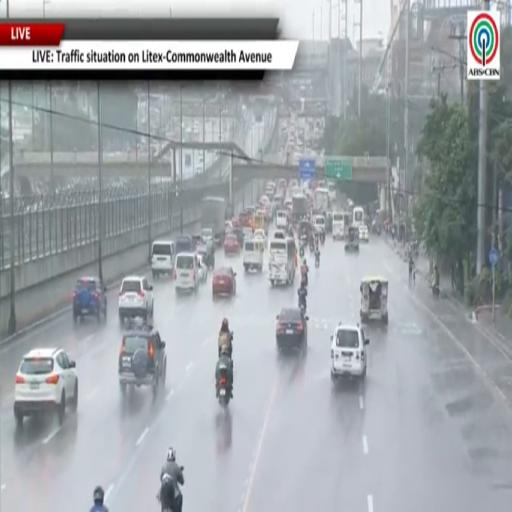bus: (269, 237, 296, 285), (353, 206, 364, 228)
car: (14, 348, 78, 426), (119, 325, 166, 395), (331, 324, 369, 380), (119, 276, 154, 324), (73, 277, 106, 322), (276, 308, 308, 350), (174, 253, 200, 293), (151, 240, 175, 278), (212, 267, 236, 297), (197, 246, 214, 268), (227, 228, 245, 246), (197, 253, 208, 282), (224, 234, 239, 254), (253, 230, 267, 248), (201, 229, 213, 245), (359, 226, 368, 243), (242, 228, 253, 239), (274, 230, 286, 239)
motorcycle: (157, 479, 181, 511), (218, 373, 230, 407), (298, 296, 306, 315), (432, 282, 440, 298), (320, 230, 326, 246), (299, 244, 305, 258), (315, 253, 320, 267), (300, 306, 306, 316), (310, 242, 315, 253)
truck: (201, 197, 227, 246), (292, 195, 308, 222), (313, 187, 329, 214)
